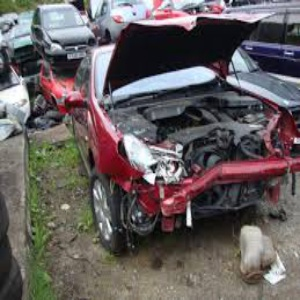bumper: (139, 164, 228, 225)
